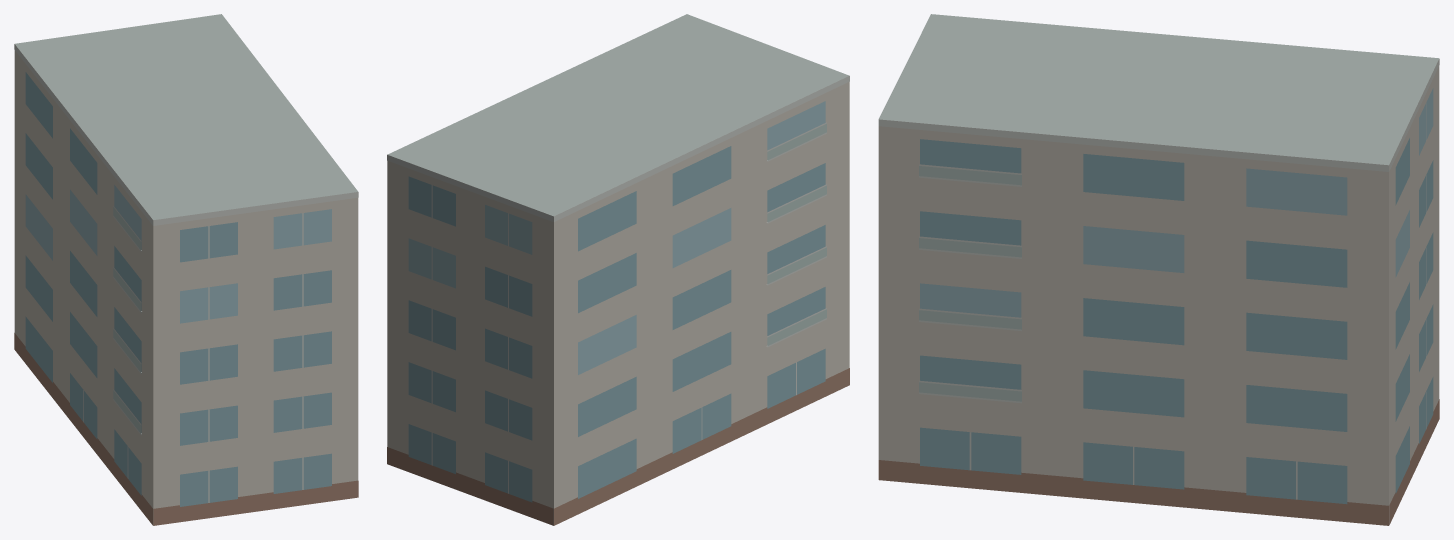
File: survey-upis-32702298.glb
3 views of the same model, side by side, from view 1: azimuth 30°, elevation 25°; view 2: azimuth 150°, elevation 25°; view 3: azimuth 270°, elevation 25° (orthographic). The views are drawn at different scales.
Parts seen in each view (by area): view 1: survey-upis-32702298.tmp; view 2: survey-upis-32702298.tmp; view 3: survey-upis-32702298.tmp.
Part boxes in pixels (x1,y1,x2,y2): survey-upis-32702298.tmp: [14, 14, 358, 525]; survey-upis-32702298.tmp: [387, 14, 849, 525]; survey-upis-32702298.tmp: [878, 14, 1439, 525].
Bounding box in the file's own units: 11.66 × 12.95 × 18.27.
